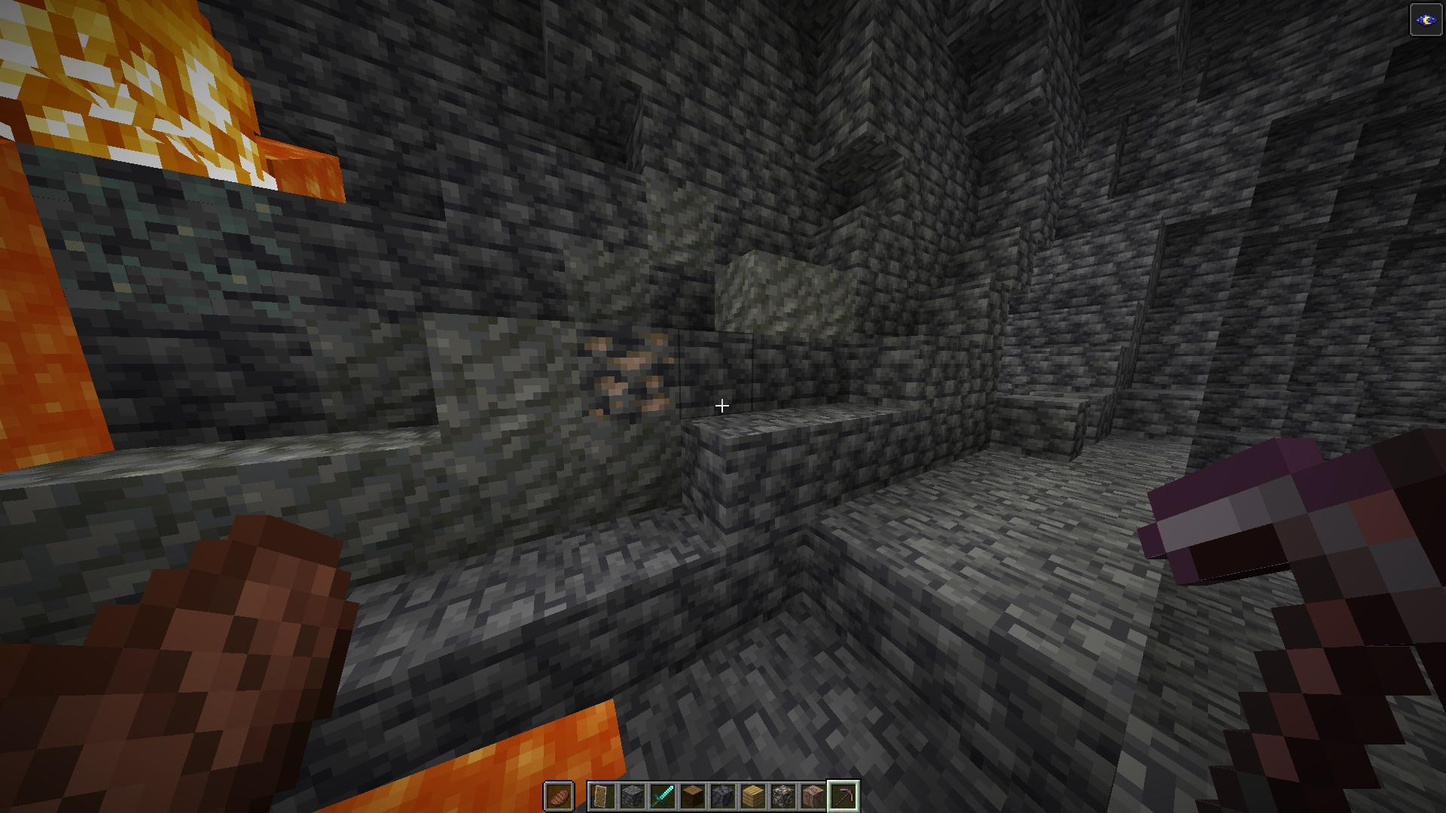iron ore: (572, 322, 682, 423)
